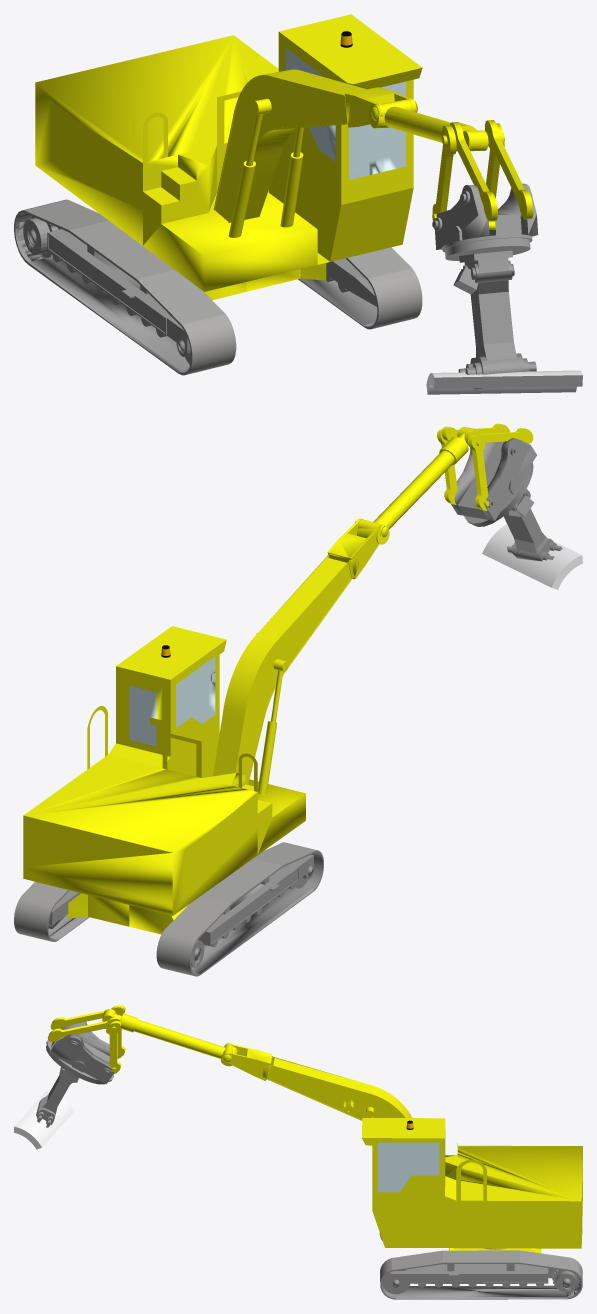
The model's file is PipeCrane_B.fbx.
3 renders of one model, top to bottom at view 1: azimuth 30°, elevation 25°; view 2: azimuth 150°, elevation 25°; view 3: azimuth 270°, elevation 25°, orthographic. The views are drawn at different scales.
Parts seen in each view (by area): view 1: PipeCrane_B; view 2: PipeCrane_B; view 3: PipeCrane_B.
Boxes of the visible parts, <box> form: PipeCrane_B: <box>14,14,582,394</box>; PipeCrane_B: <box>14,423,582,976</box>; PipeCrane_B: <box>14,1005,582,1299</box>.
Size of the model in its own units: 347 by 494 by 1063.
